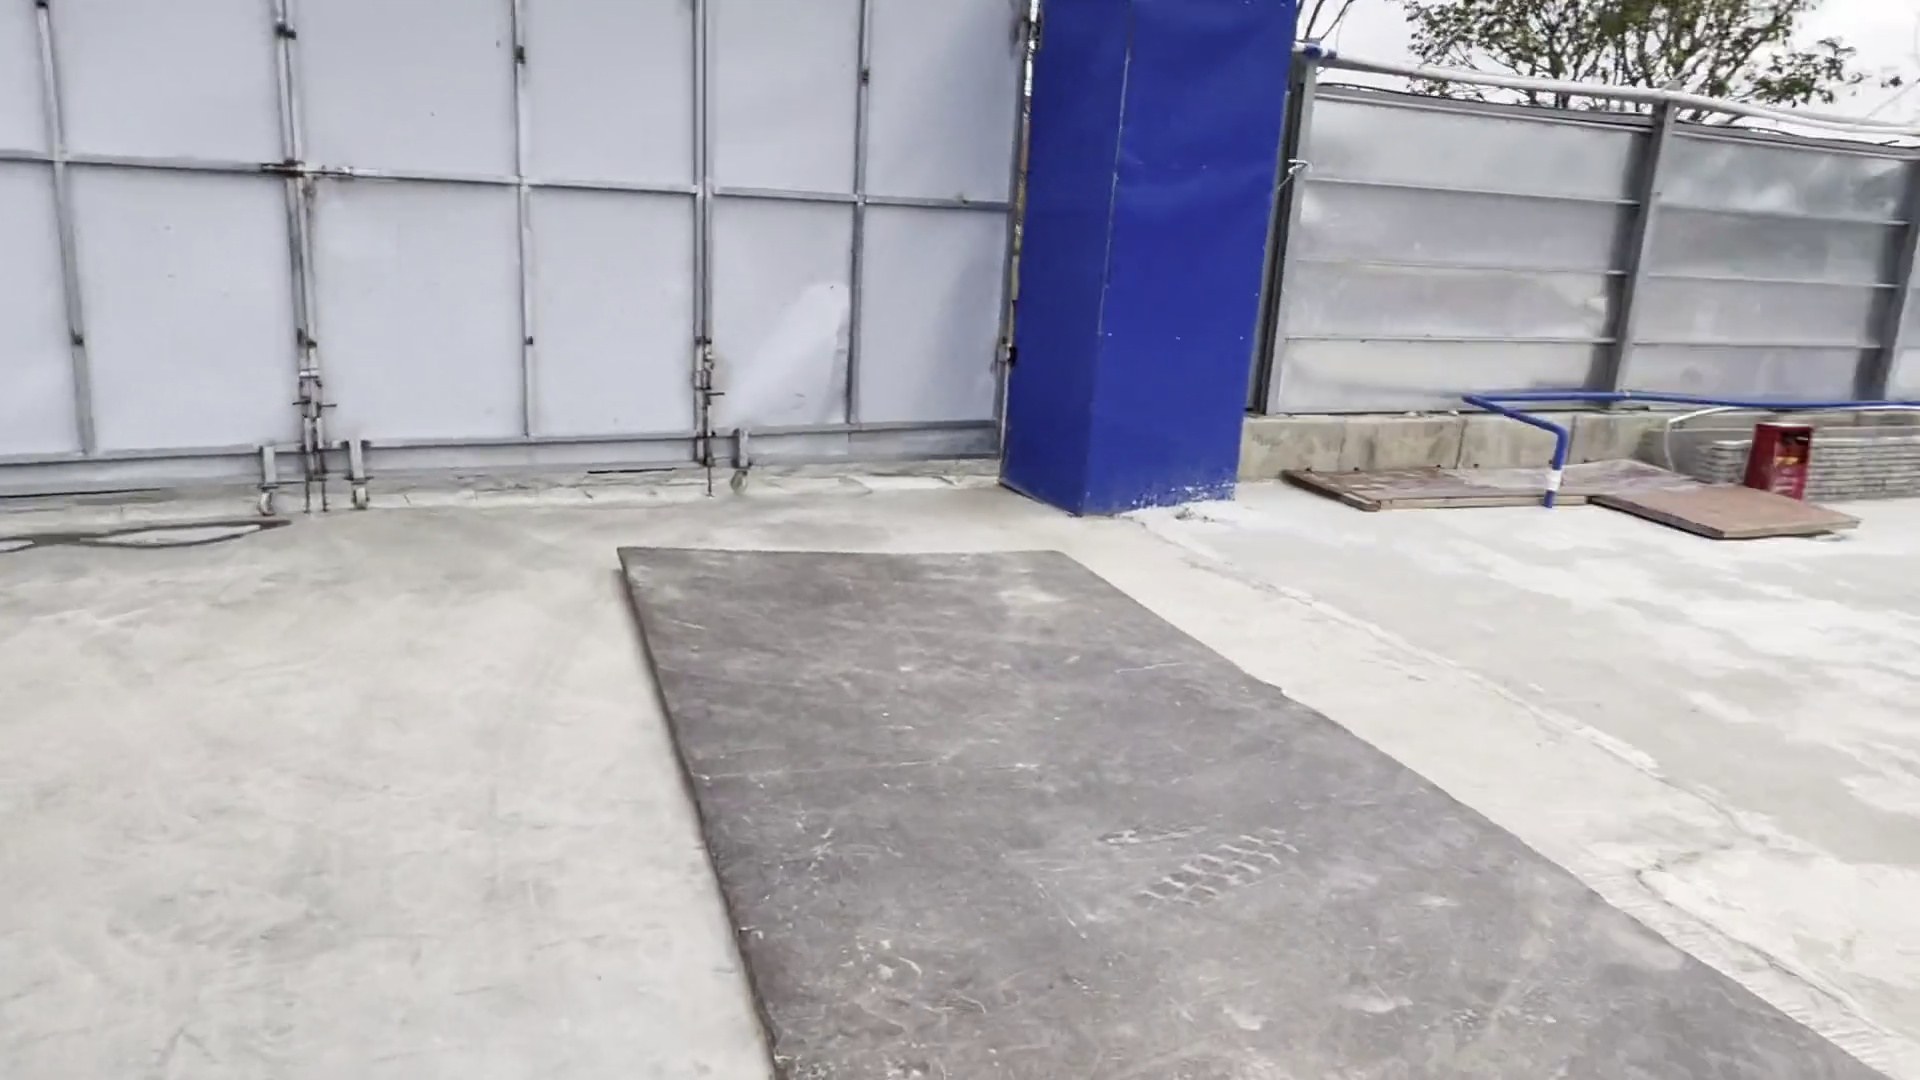brick: (1808, 435, 1920, 504), (1695, 439, 1753, 484)
